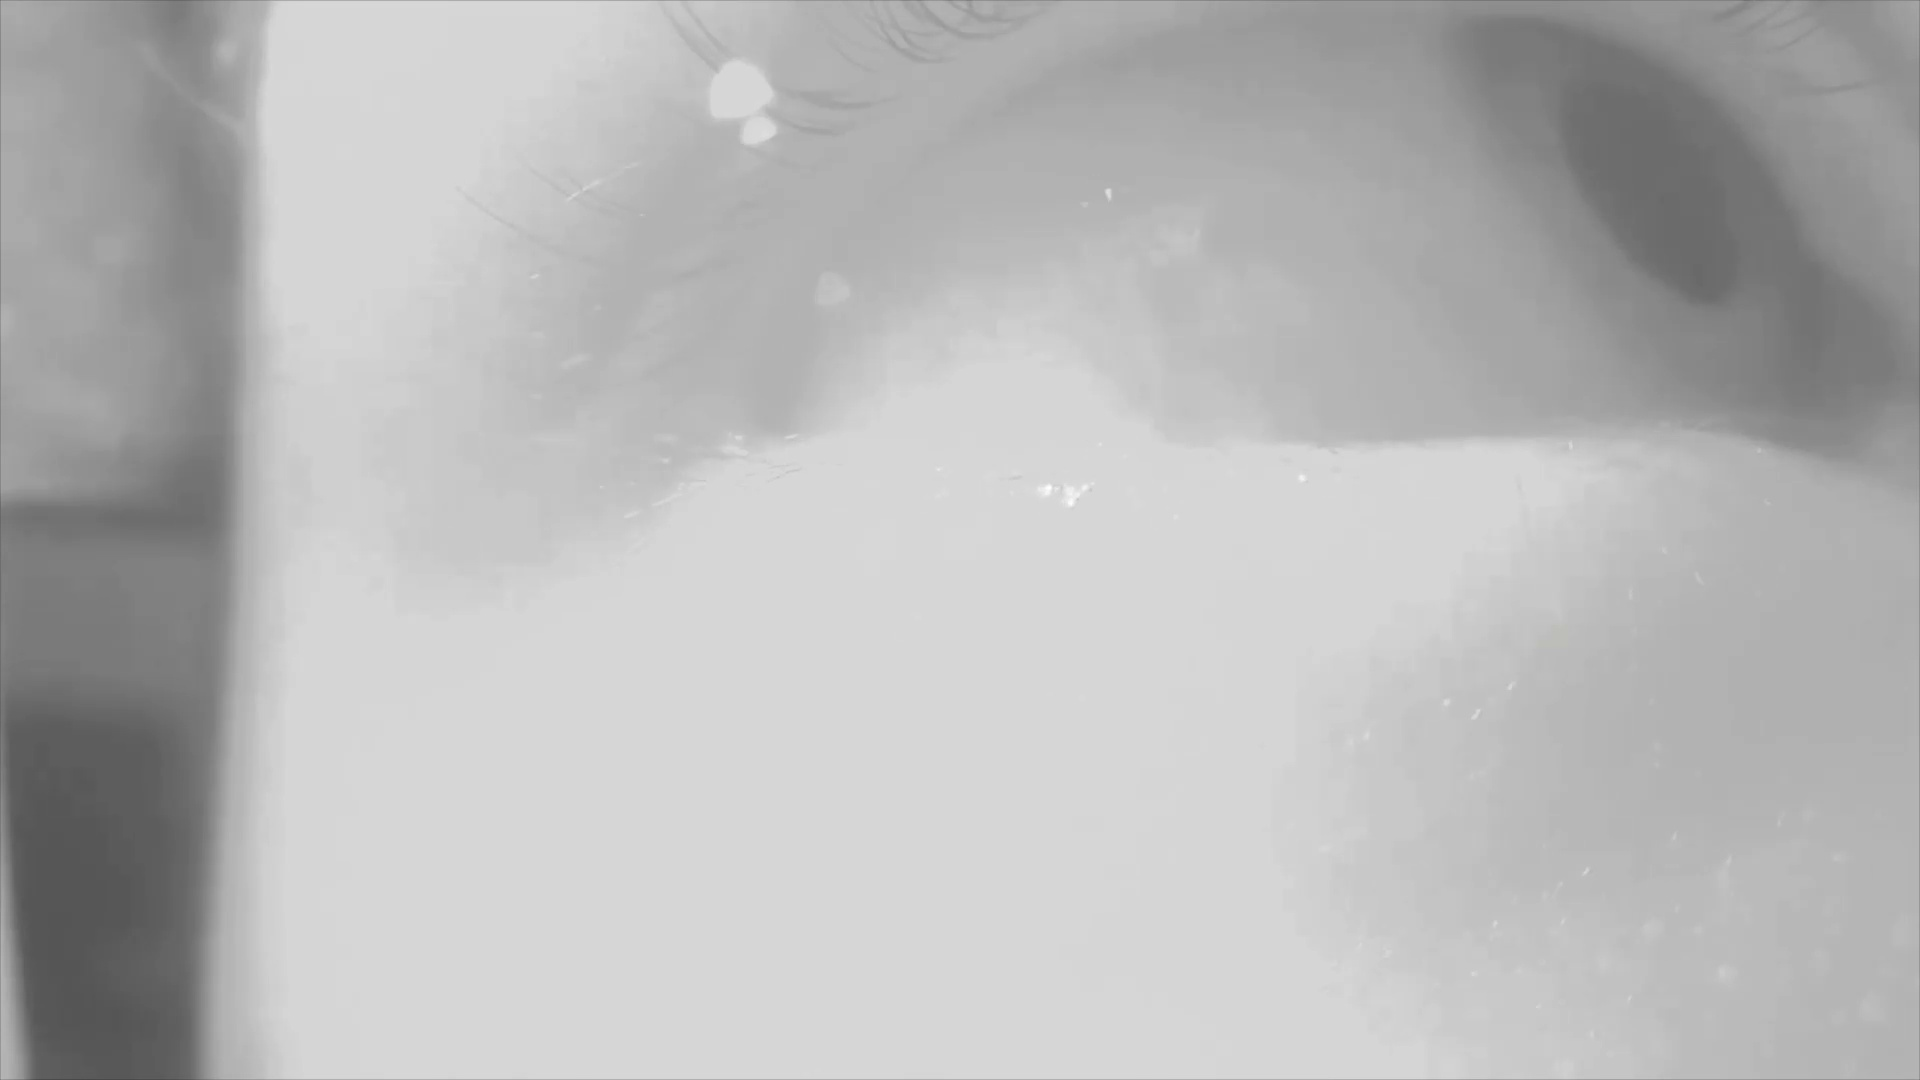pupil: (1563, 80, 1747, 313)
